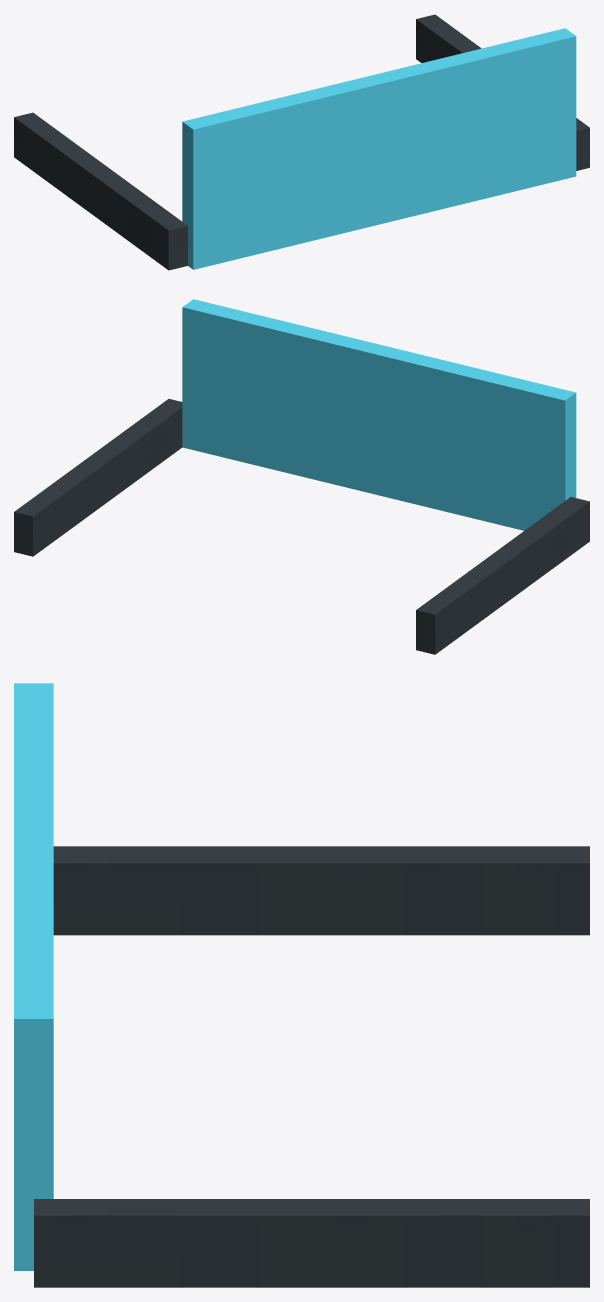
The model's file is acc_holo_visor.glb.
3 views of the same model, one above another, from view 1: azimuth 30°, elevation 25°; view 2: azimuth 150°, elevation 25°; view 3: azimuth 270°, elevation 25° (orthographic). The views are drawn at different scales.
Parts seen in each view (by area): view 1: acc_holo_visor; view 2: acc_holo_visor; view 3: acc_holo_visor.
Boxes of the visible parts, <box> form: acc_holo_visor: <box>14,14,589,270</box>; acc_holo_visor: <box>14,299,589,654</box>; acc_holo_visor: <box>14,683,589,1287</box>.
Size of the model in its own units: 0.22 by 0.07 by 0.145.
Materials: 2 (1 with a texture image).
